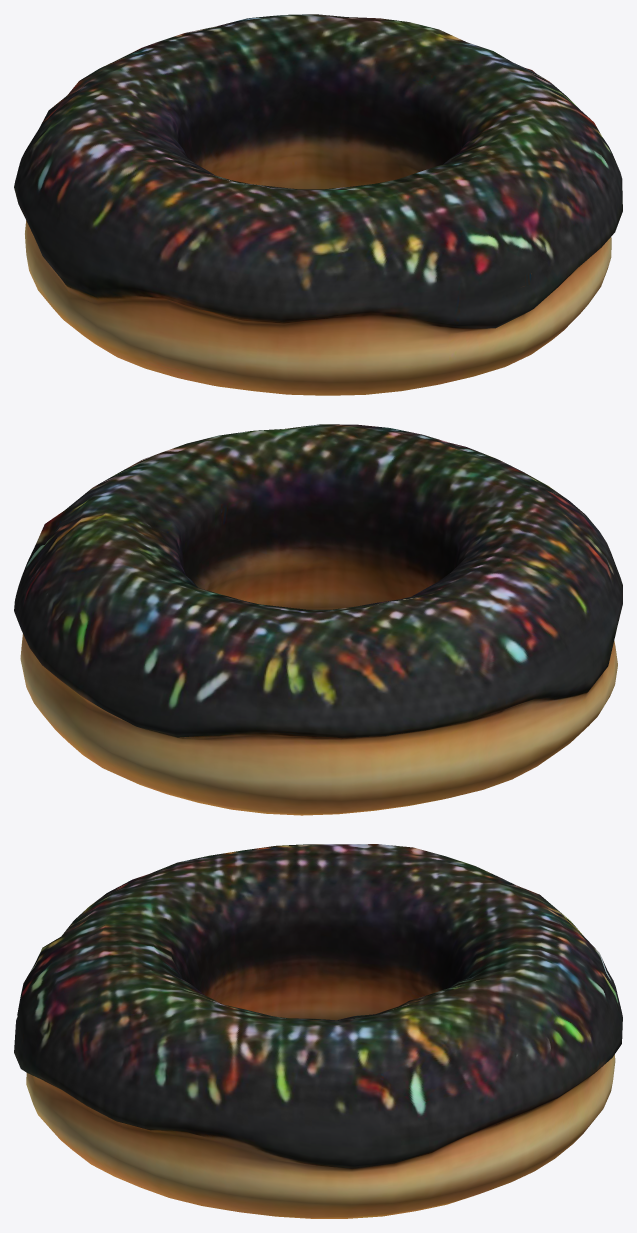
File: donut 01.glb
3 renders of one model, top to bottom at view 1: azimuth 30°, elevation 25°; view 2: azimuth 150°, elevation 25°; view 3: azimuth 270°, elevation 25°, orthographic. The views are drawn at different scales.
Visible parts, largest first — view 1: mesh; view 2: mesh; view 3: mesh.
Part boxes in pixels (x1,y1,x2,y2): mesh: (14,14,622,395); mesh: (14,424,622,815); mesh: (14,844,622,1218).
Size of the model in its own units: 0.9859 by 0.3319 by 0.9982.
Materials: 1 (1 with a texture image).
